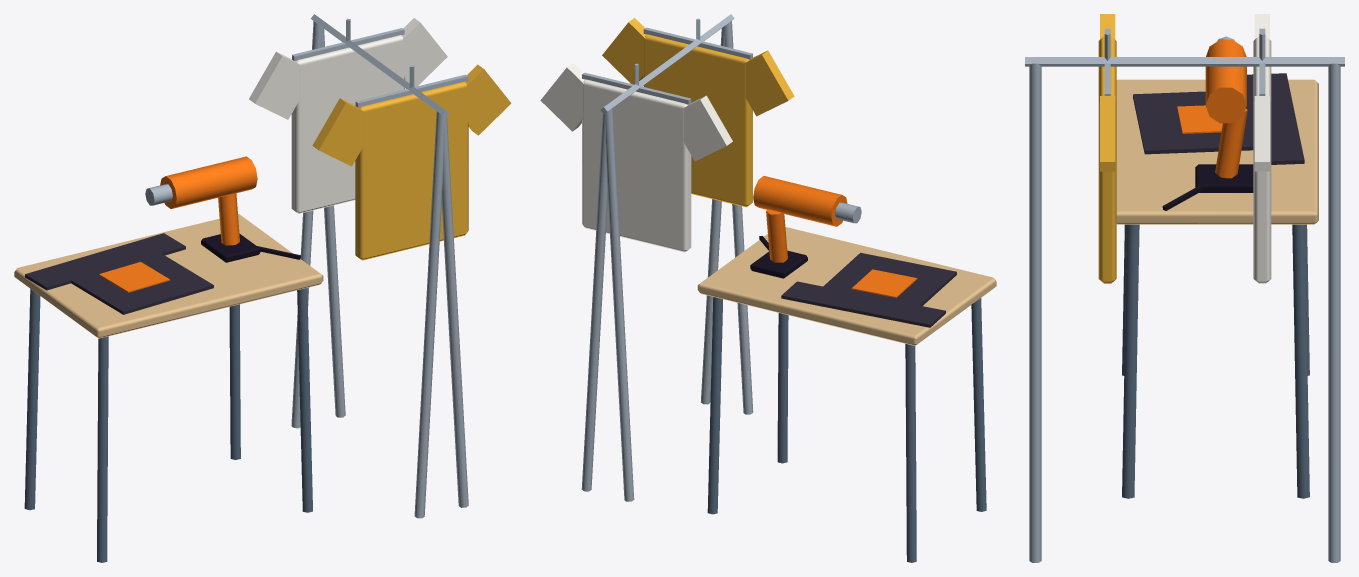
File: station_buffer_ausstattung_3_1.glb
The picture shows the model from 3 angles, left to right: view 1: azimuth 30°, elevation 25°; view 2: azimuth 150°, elevation 25°; view 3: azimuth 270°, elevation 25°; orthographic projection. The views are drawn at different scales.
Visible parts, largest first — view 1: station_buffer_ausstattung_3_1; view 2: station_buffer_ausstattung_3_1; view 3: station_buffer_ausstattung_3_1.
Part boxes in pixels (left/top/right/bottom): station_buffer_ausstattung_3_1: left=14, top=14, right=511, bottom=562; station_buffer_ausstattung_3_1: left=540, top=14, right=996, bottom=562; station_buffer_ausstattung_3_1: left=1025, top=14, right=1344, bottom=562.
Bounding box in the file's own units: 1.12 × 1.11 × 0.62.
